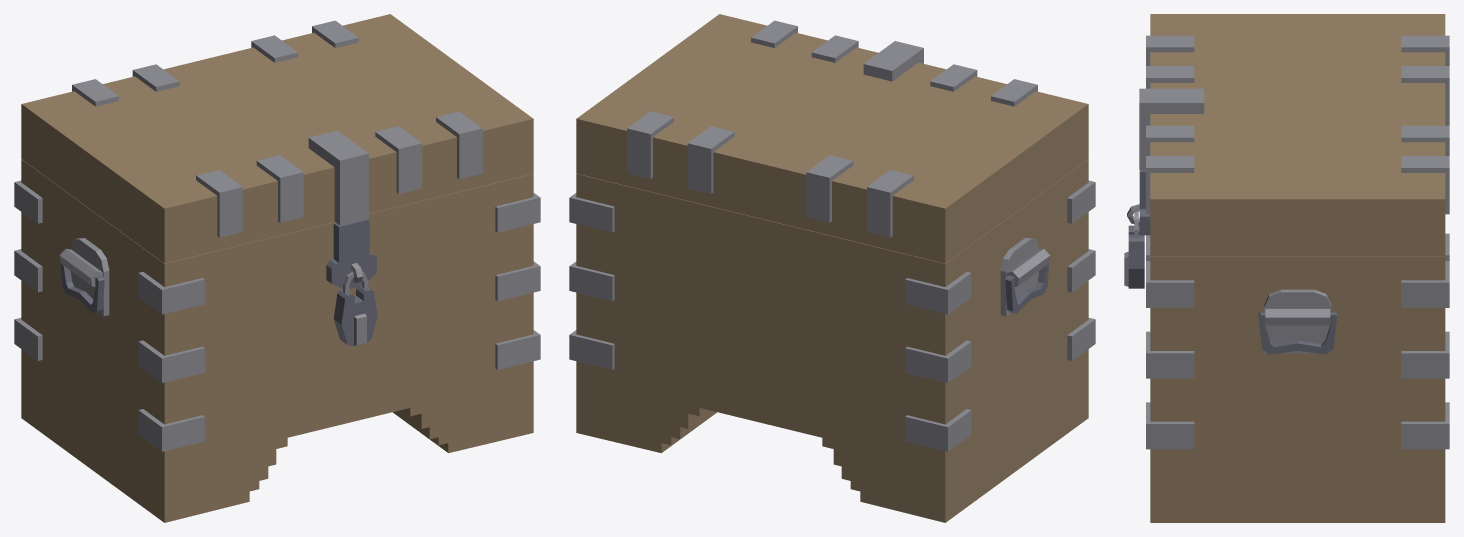
The model's file is _trunk_16.fbx.
3 views of the same model, side by side, from view 1: azimuth 30°, elevation 25°; view 2: azimuth 150°, elevation 25°; view 3: azimuth 270°, elevation 25° (orthographic). The views are drawn at different scales.
Visible parts, largest first — view 1: trunk_16; view 2: trunk_16; view 3: trunk_16.
Boxes of the visible parts, x1,y1,x2,y2 form: trunk_16: (14, 14, 540, 522); trunk_16: (569, 14, 1095, 522); trunk_16: (1124, 14, 1449, 522).
Size of the model in its own units: 103 by 79.08 by 69.73.
